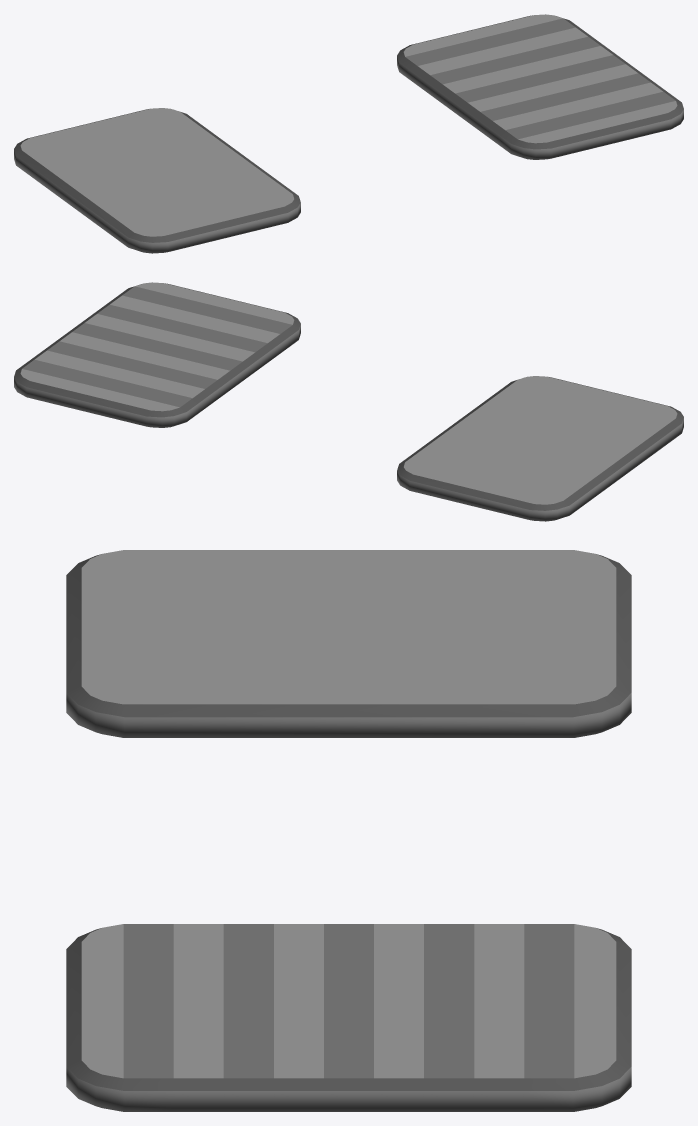
The model's file is metal.fbx.
3 renders of one model, top to bottom at view 1: azimuth 30°, elevation 25°; view 2: azimuth 150°, elevation 25°; view 3: azimuth 270°, elevation 25°, orthographic. The views are drawn at different scales.
Parts seen in each view (by area): view 1: Metal, Reinforced Metal; view 2: Metal, Reinforced Metal; view 3: Metal, Reinforced Metal.
Boxes of the visible parts, left/top/right/bottom form: Metal: left=14, top=108, right=300, bottom=253; Reinforced Metal: left=397, top=14, right=683, bottom=159; Metal: left=397, top=376, right=683, bottom=521; Reinforced Metal: left=14, top=282, right=300, bottom=427; Metal: left=66, top=550, right=631, bottom=737; Reinforced Metal: left=66, top=924, right=631, bottom=1111.
Size of the model in its own units: 1.45 by 0.0419 by 0.6391.
